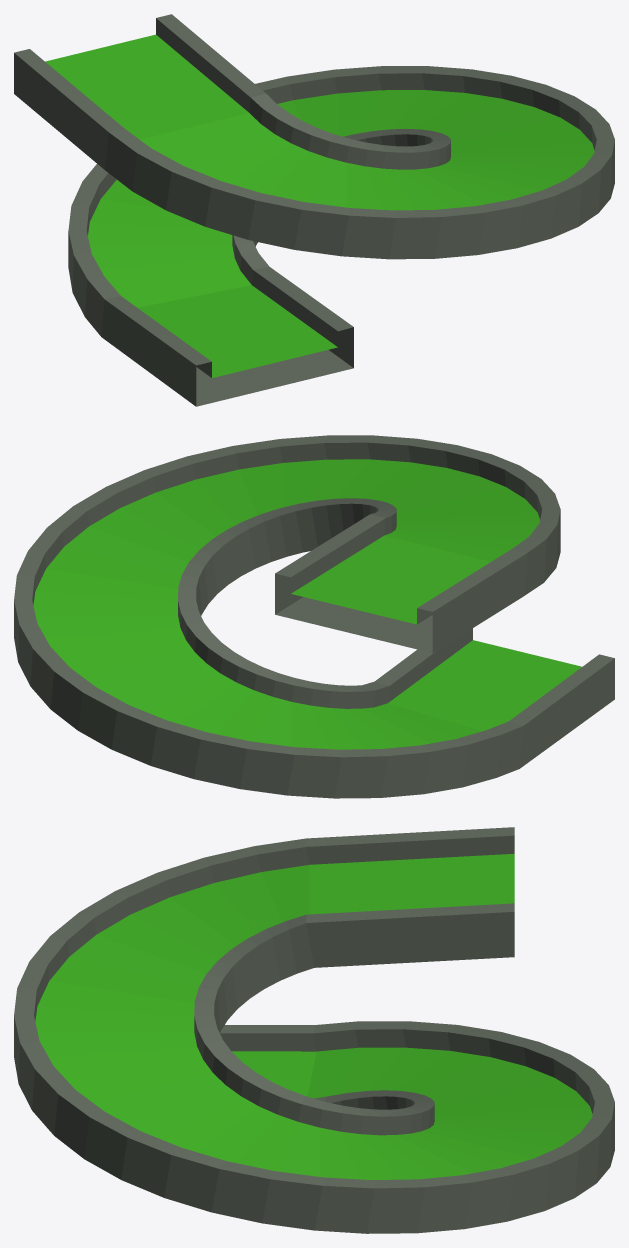
The model's file is StraightSpiral2.fbx.
3 views of the same model, one above another, from view 1: azimuth 30°, elevation 25°; view 2: azimuth 150°, elevation 25°; view 3: azimuth 270°, elevation 25° (orthographic). The views are drawn at different scales.
Parts seen in each view (by area): view 1: Spiral.014; view 2: Spiral.014; view 3: Spiral.014.
Part boxes in pixels (box(x1,y1,x2,y2)): Spiral.014: box(14, 14, 614, 406); Spiral.014: box(14, 435, 614, 798); Spiral.014: box(14, 827, 614, 1233).
Bounding box in the file's own units: 600 × 600 × 267.
